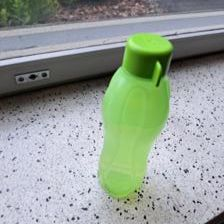bottle: (94, 28, 176, 200)
